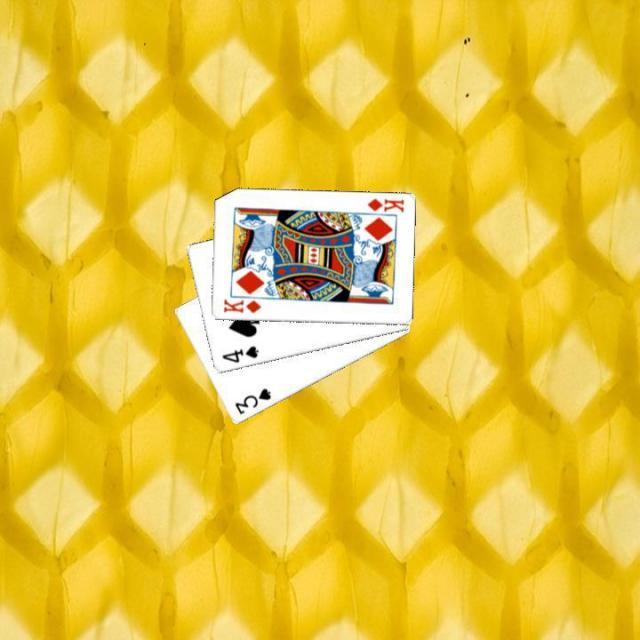3S: (231, 384, 273, 416)
4S: (218, 343, 260, 366)
KD: (220, 295, 264, 315), (363, 195, 405, 215)
